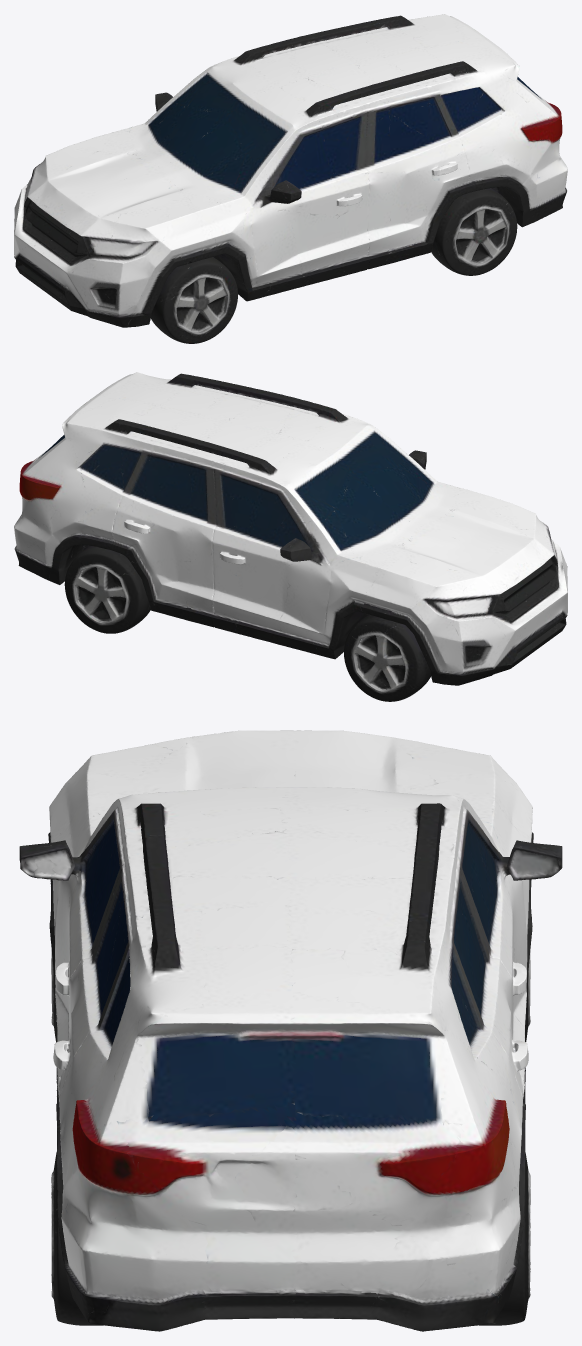
Rendered from suv.glb.
The picture shows the model from 3 angles, top to bottom: view 1: azimuth 30°, elevation 25°; view 2: azimuth 150°, elevation 25°; view 3: azimuth 270°, elevation 25°; orthographic projection. The views are drawn at different scales.
Size of the model in its own units: 1.9 by 0.7124 by 0.9104.
Materials: 1 (1 with a texture image).
